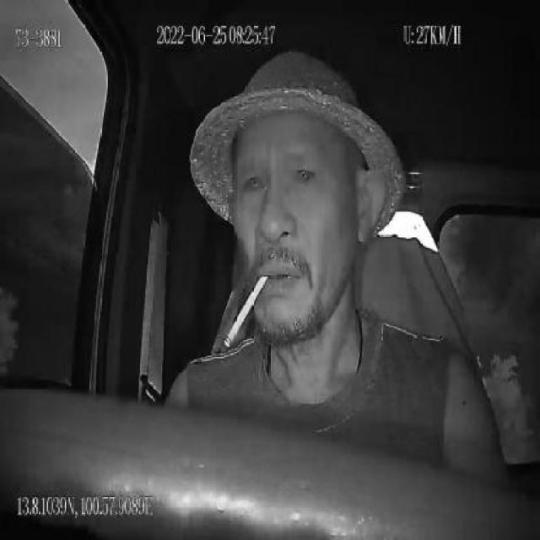smoking: (224, 273, 268, 350)
